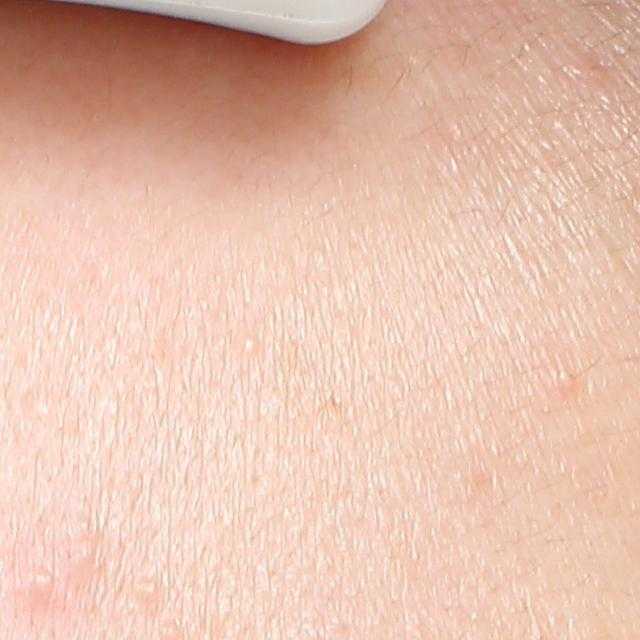comedo: (133, 577, 166, 607), (556, 361, 579, 390), (240, 334, 262, 359)
